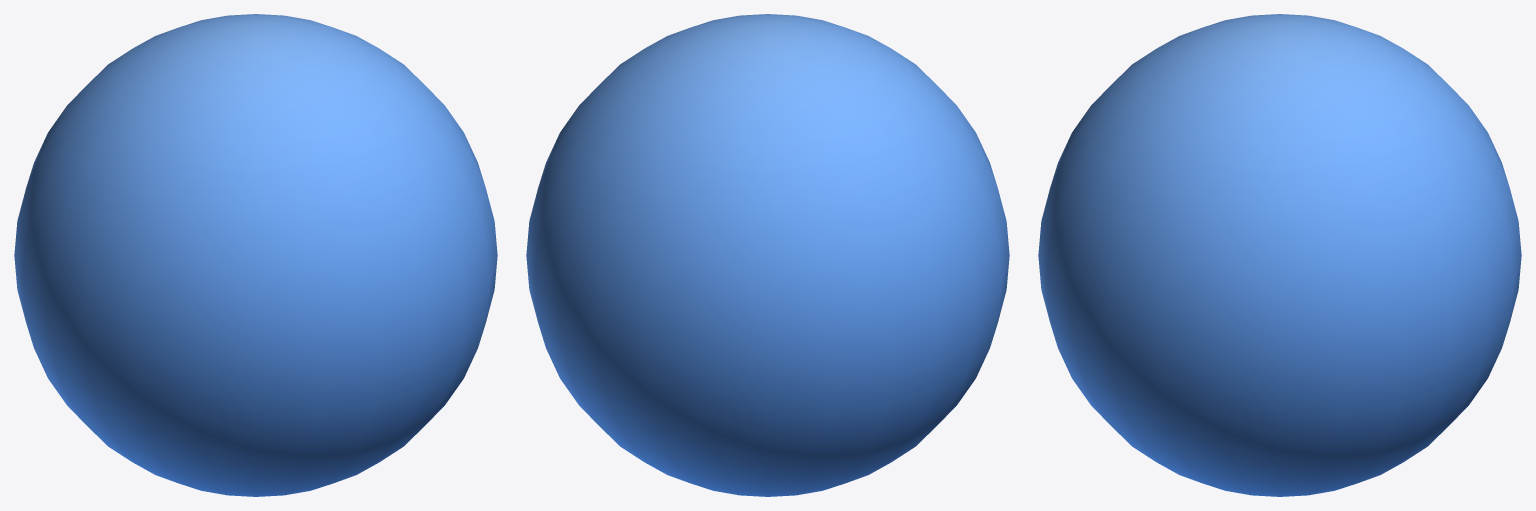
Rendered from ground_008.glb.
The picture shows the model from 3 angles, left to right: view 1: azimuth 30°, elevation 25°; view 2: azimuth 150°, elevation 25°; view 3: azimuth 270°, elevation 25°; orthographic projection.
Parts seen in each view (by area): view 1: ground_008; view 2: ground_008; view 3: ground_008.
Part boxes in pixels (left/top/right/bottom): ground_008: left=14, top=14, right=497, bottom=496; ground_008: left=526, top=14, right=1009, bottom=496; ground_008: left=1038, top=14, right=1521, bottom=496.
Size of the model in its own units: 20.09 by 20.09 by 20.09.
1 material, 1 textured.
